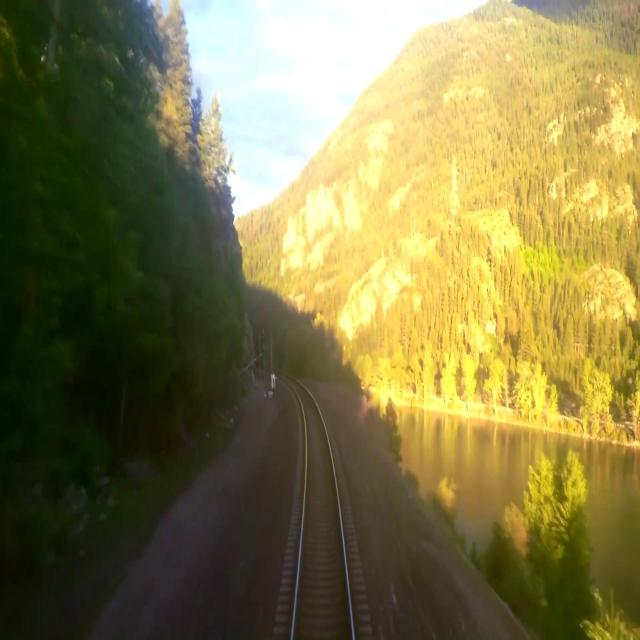rail-track: (287, 377, 350, 639)
